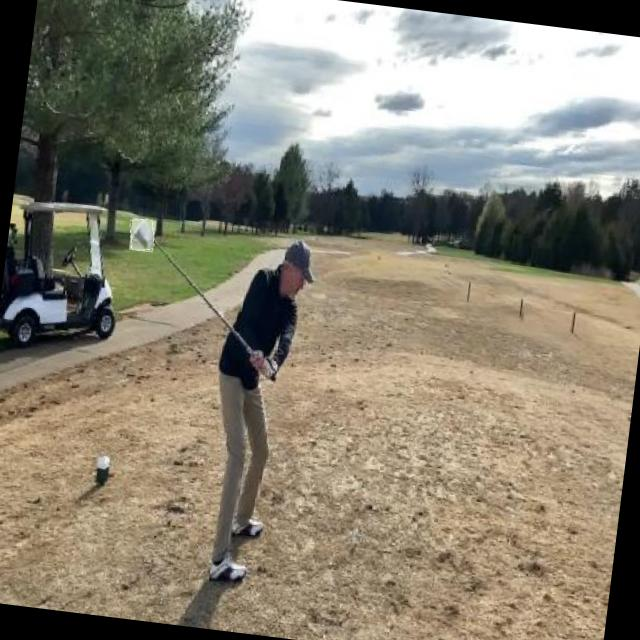club head: (128, 217, 156, 252)
